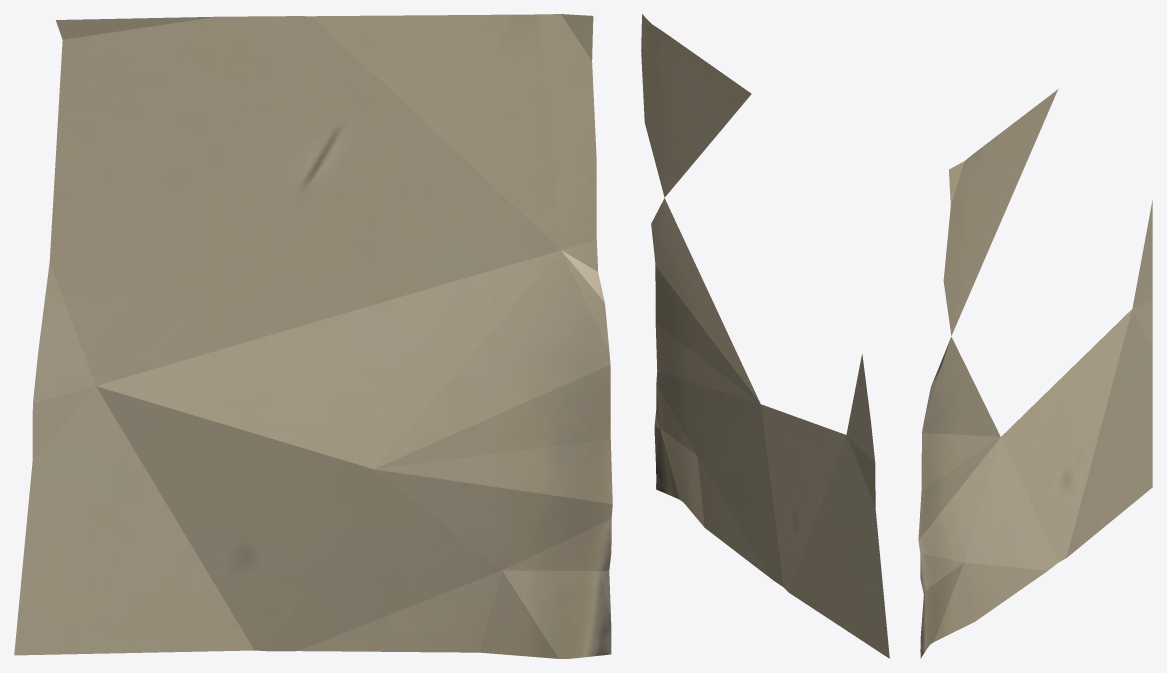
3 views of the same model, side by side, from view 1: azimuth 30°, elevation 25°; view 2: azimuth 150°, elevation 25°; view 3: azimuth 270°, elevation 25° (orthographic). The views are drawn at different scales.
Bounding box in the file's own units: 0.6292 × 0.8374 × 0.3631.
Materials: 3 (3 with a texture image).
